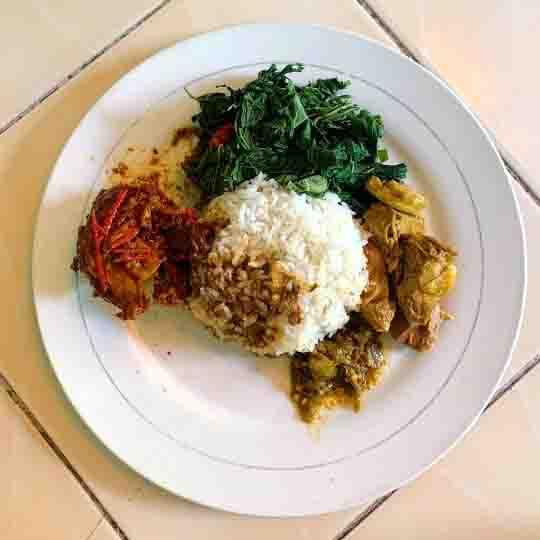daging: (378, 215, 436, 327)
makanan_berpati: (266, 203, 346, 250)
